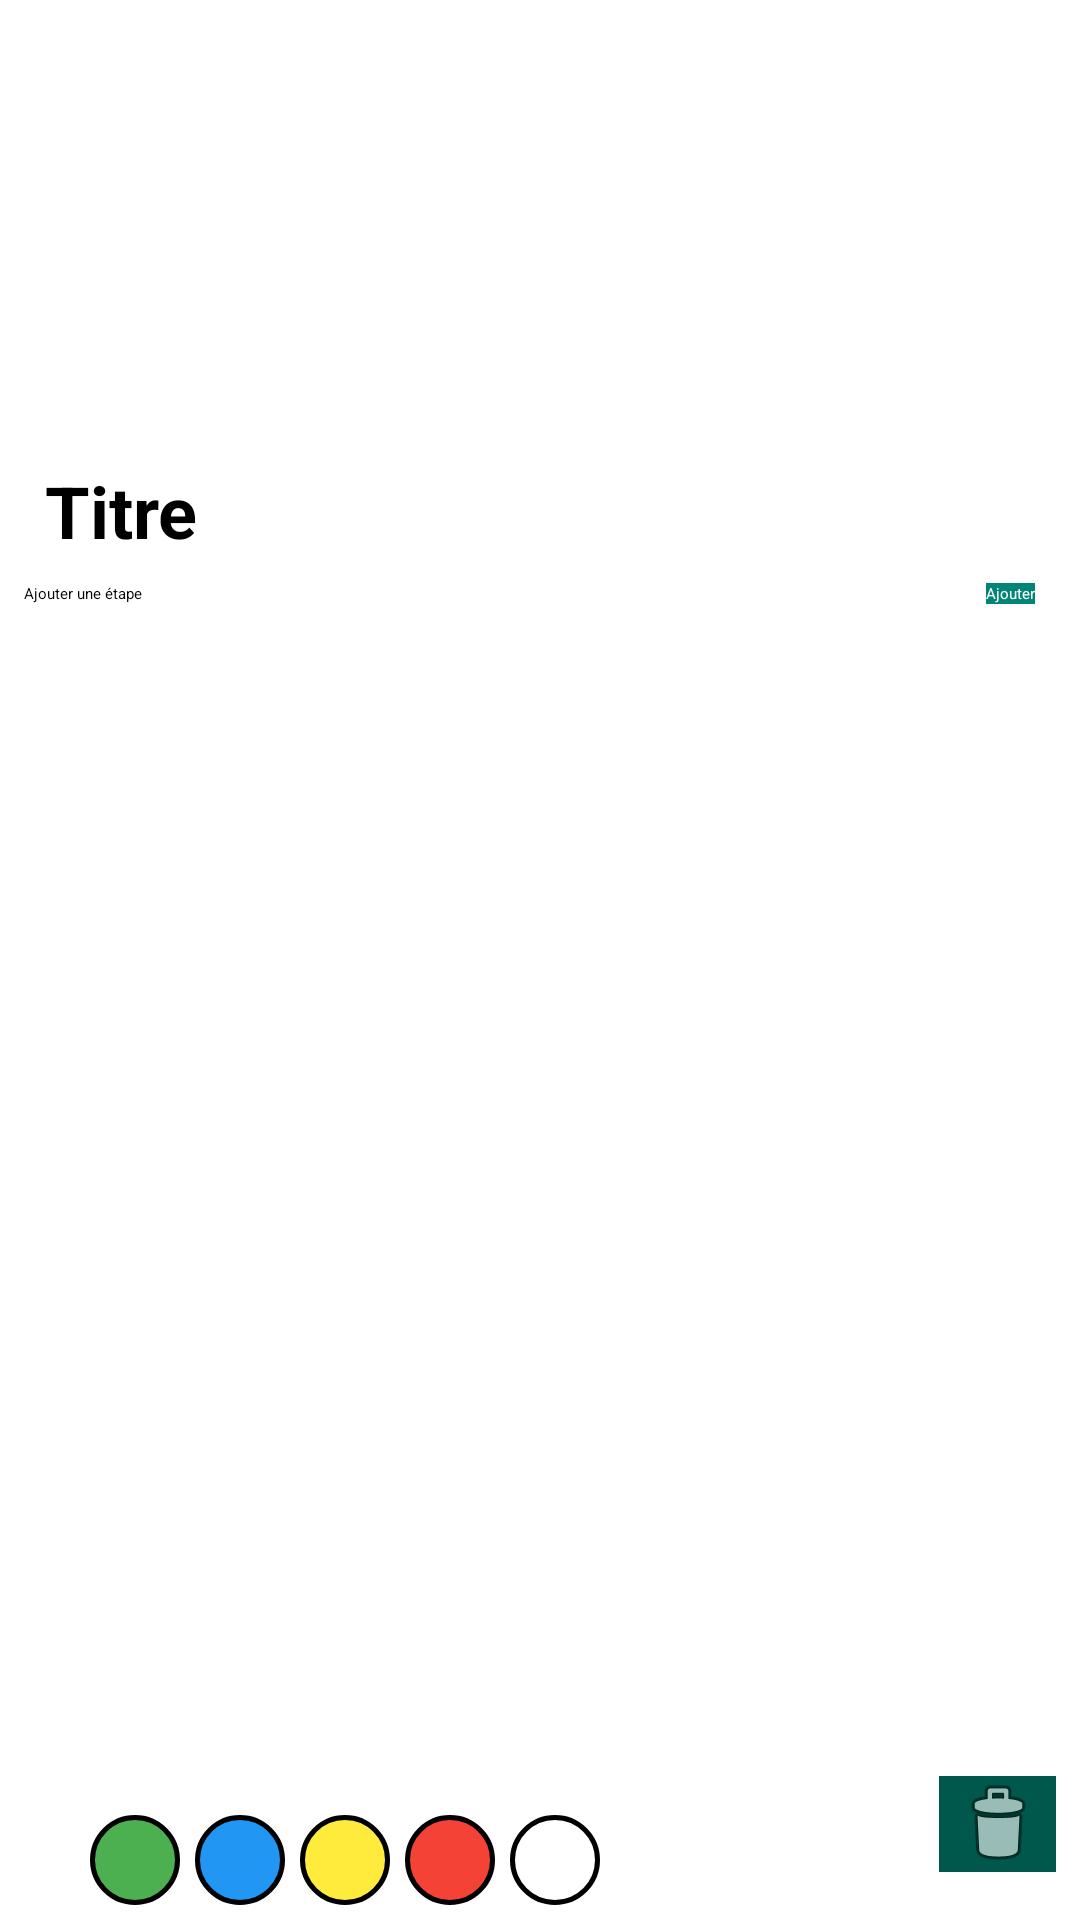

Icon click points for this 1080 × 1920 phone screenshot, format (x=x, y=y):
delete: (x=997, y=1824)
